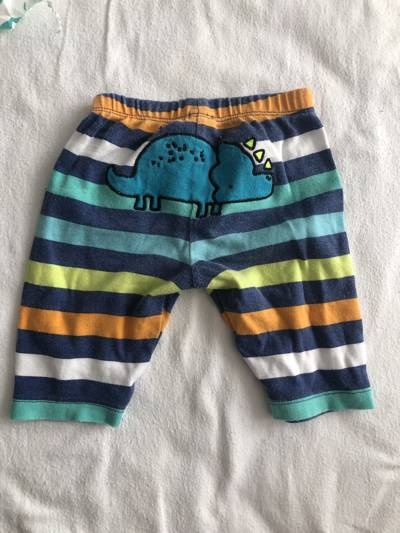Pants: (13, 86, 376, 422)
